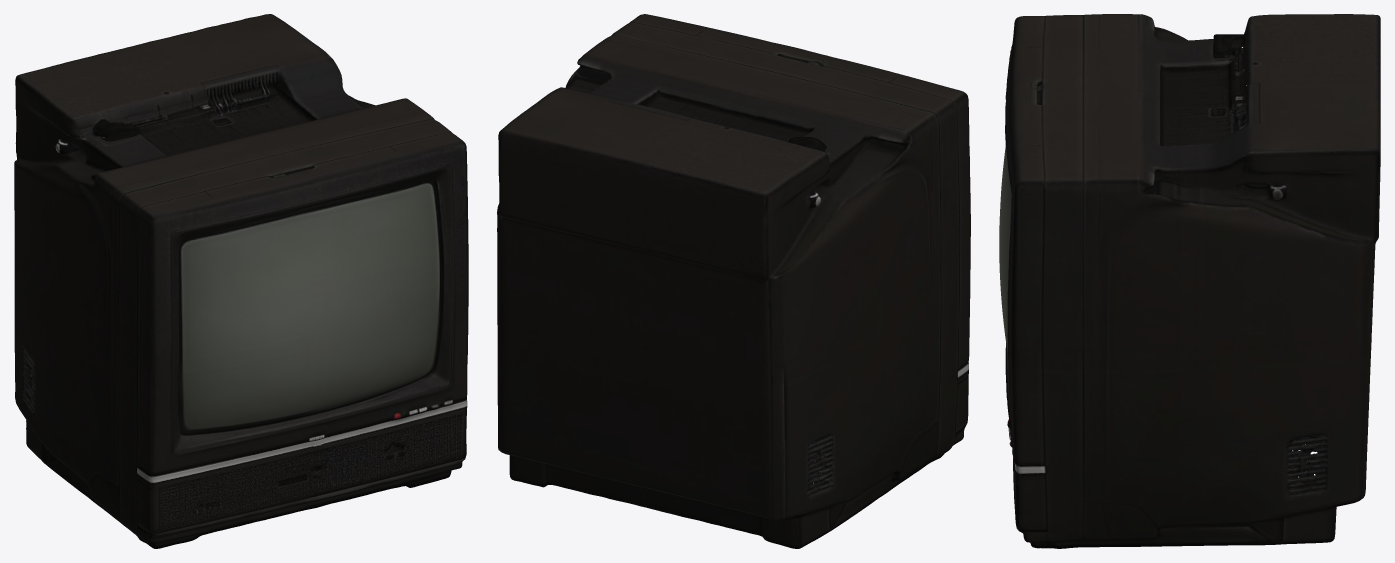
File: menu_tv_play.glb
3 renders of one model, left to right at view 1: azimuth 30°, elevation 25°; view 2: azimuth 150°, elevation 25°; view 3: azimuth 270°, elevation 25°, orthographic. The views are drawn at different scales.
Parts seen in each view (by area): view 1: tripo_node_ed104137; view 2: tripo_node_ed104137; view 3: tripo_node_ed104137.
Part boxes in pixels (x1,y1,x2,y2): tripo_node_ed104137: [14, 14, 468, 548]; tripo_node_ed104137: [497, 14, 970, 548]; tripo_node_ed104137: [999, 14, 1380, 548].
Size of the model in its own units: 92.91 by 97.84 by 86.79.
Materials: 1 (1 with a texture image).
